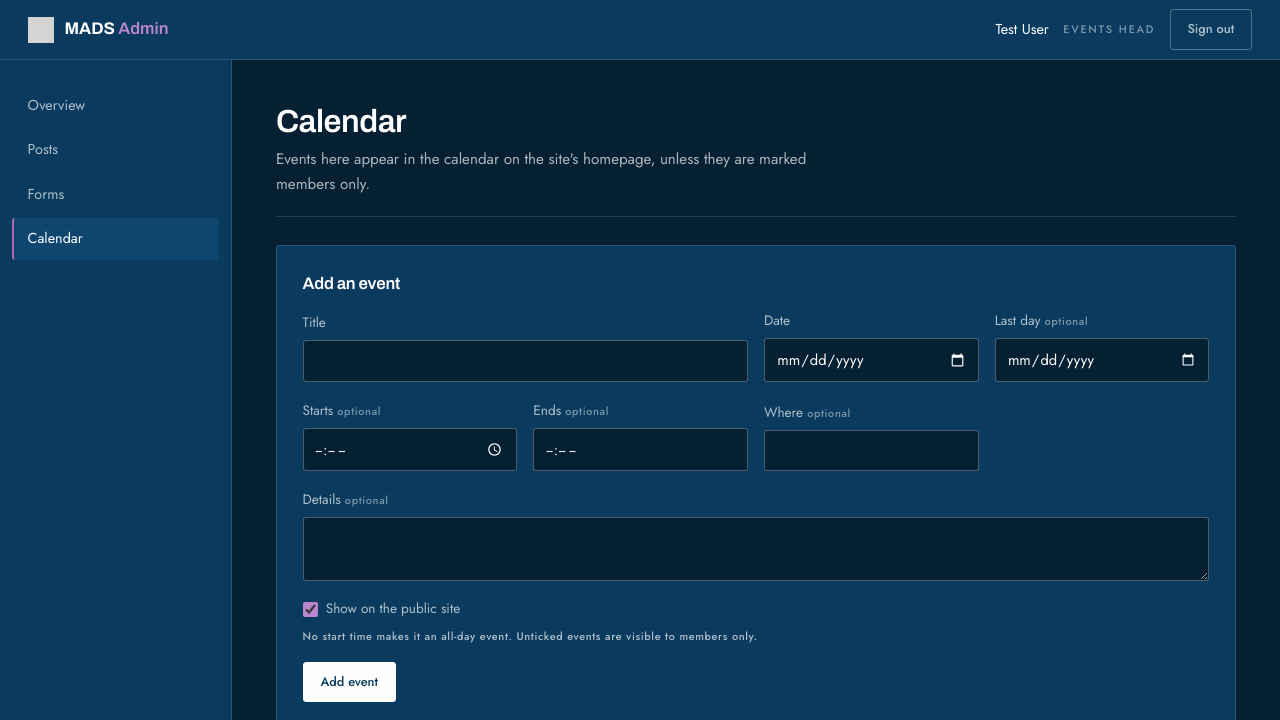
Test case: Calendar › refuses an event that ends before it starts, keeping what was typed
Type "Backwards" into the field labelled "Title".
click(525, 361); type("Backwards")  # box 303,340 -> 748,382
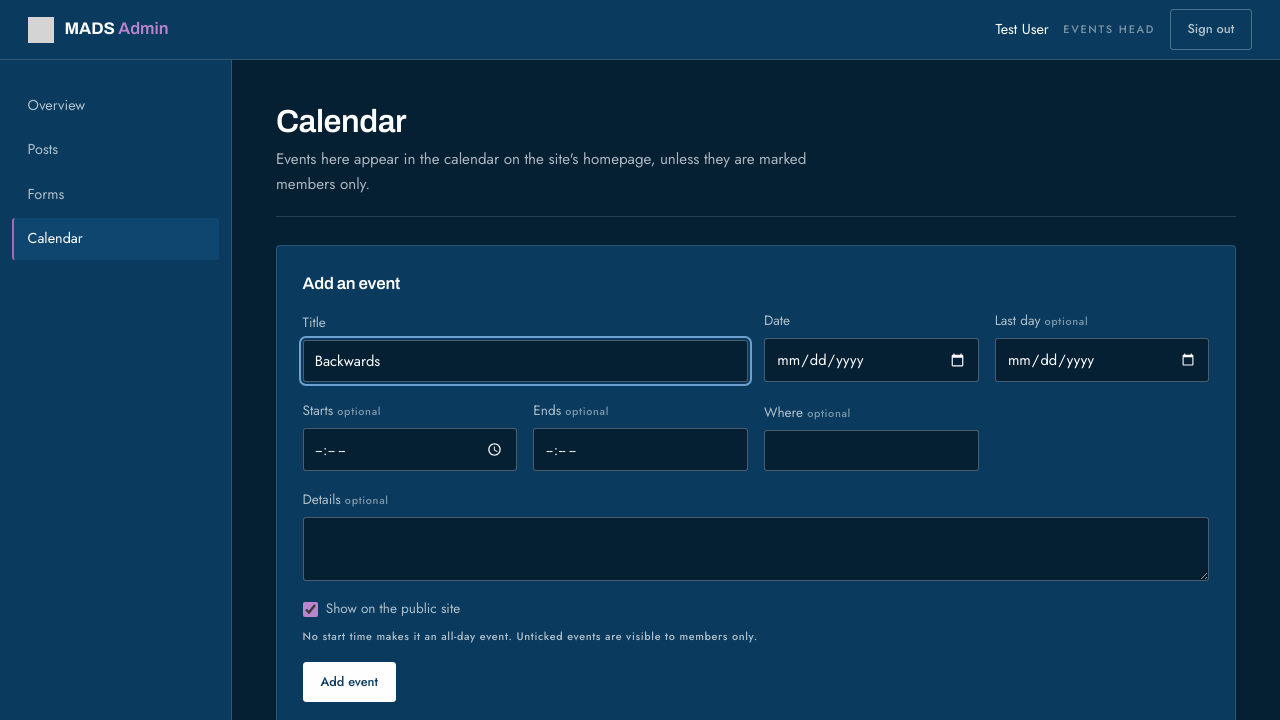
Type "2030-12-02" into the date field labelled "Date".
click(871, 360); type("2030-12-02")  # box 764,338 -> 979,382
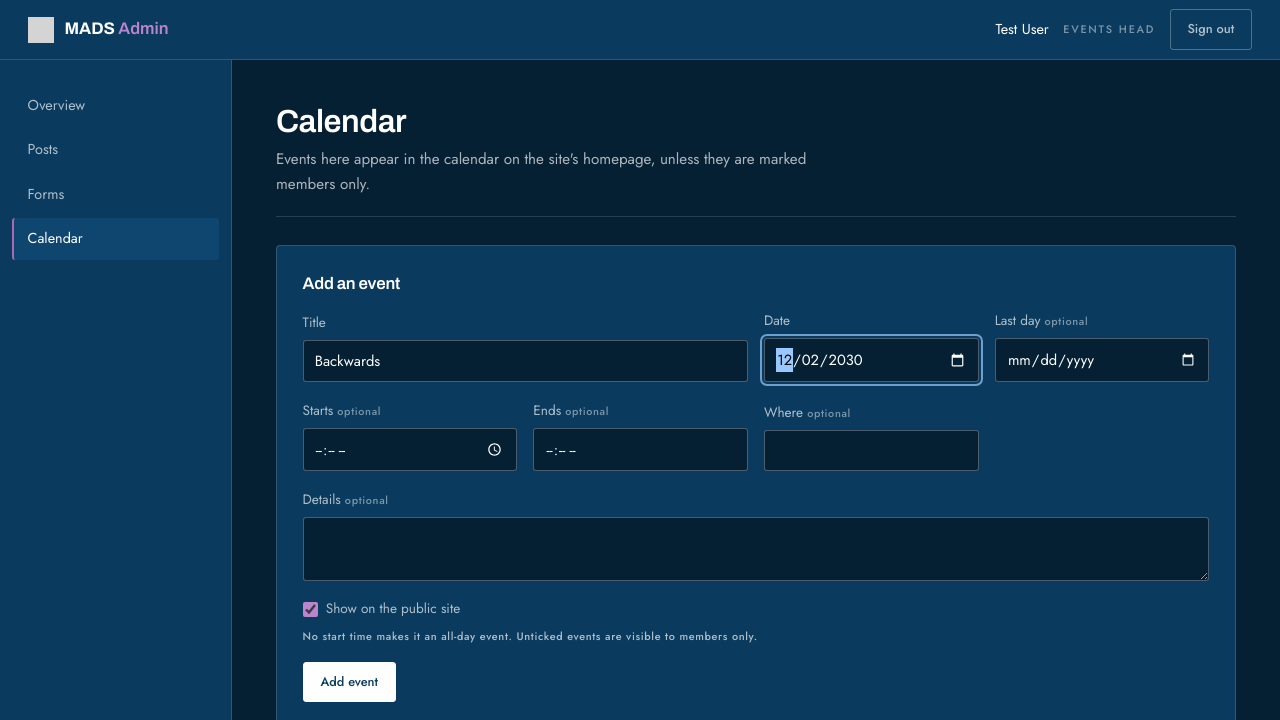
Type "2030-12-01" into the date field labelled "Last day optional".
click(1102, 360); type("2030-12-01")  # box 995,338 -> 1209,382
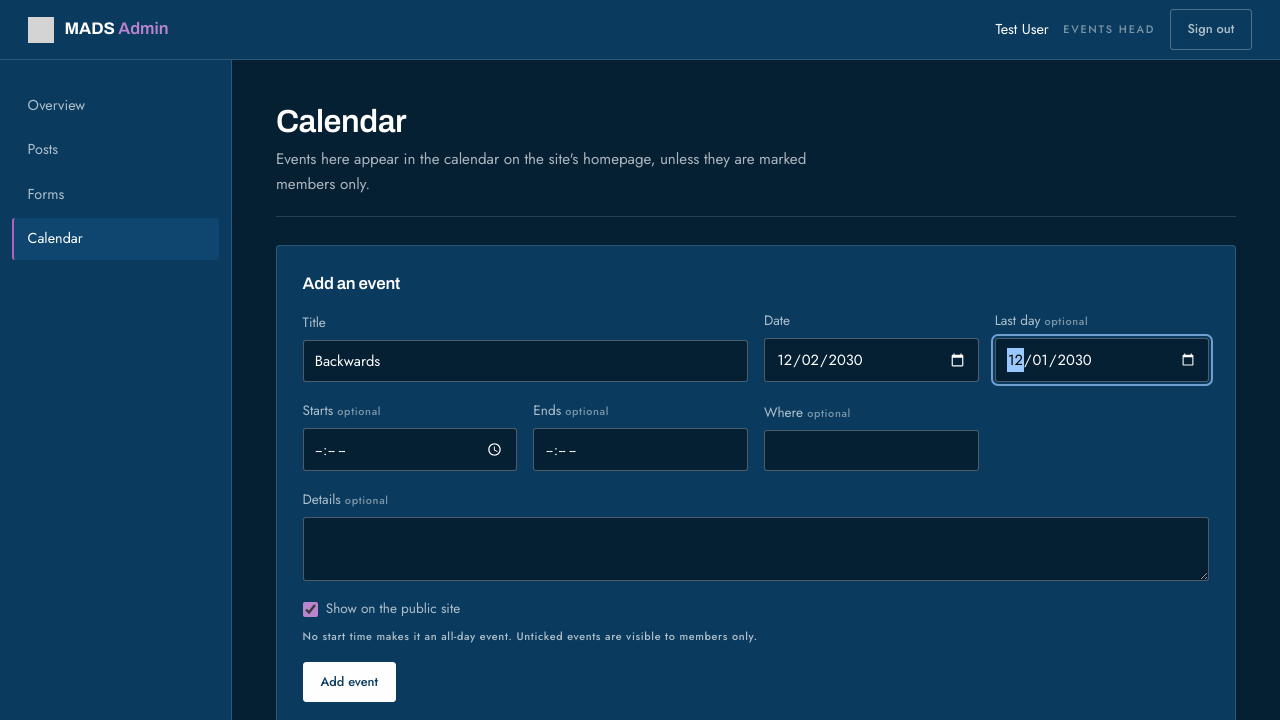
Click the button "Add event".
click(349, 682)  # box 303,662 -> 396,702
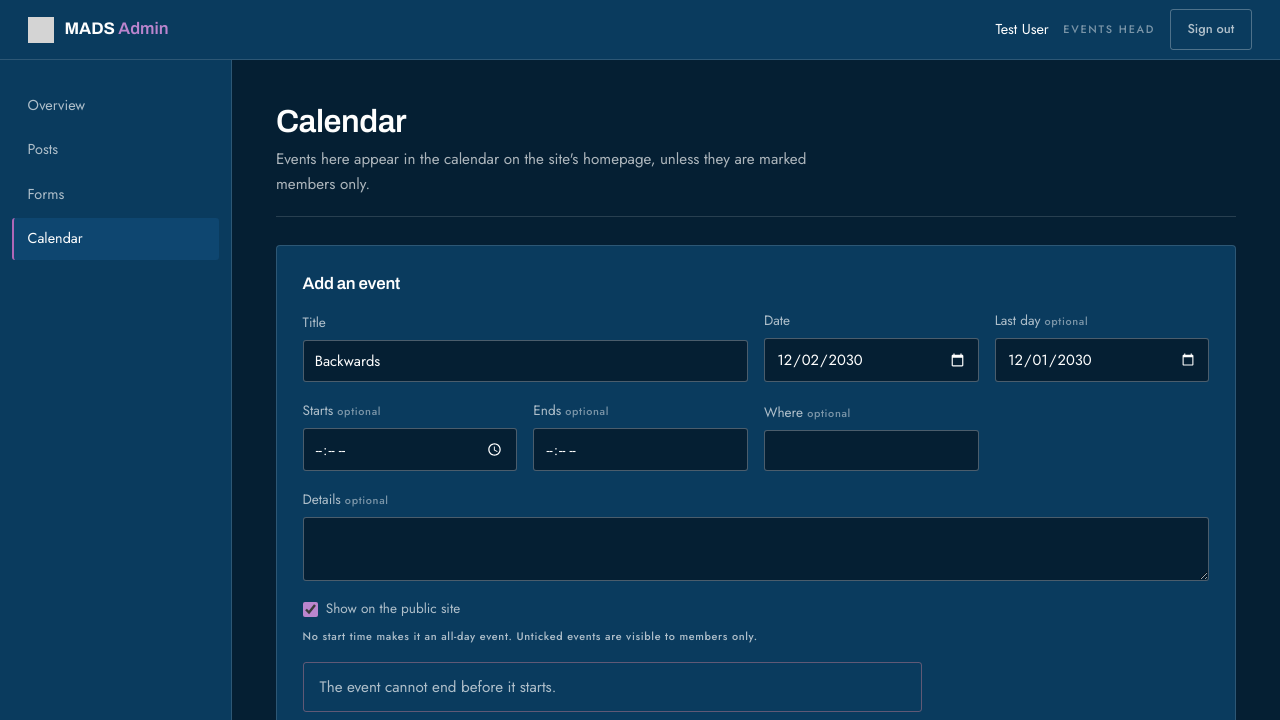
expect the message shows "cannot end before it starts": met, box 320,676 -> 556,698
